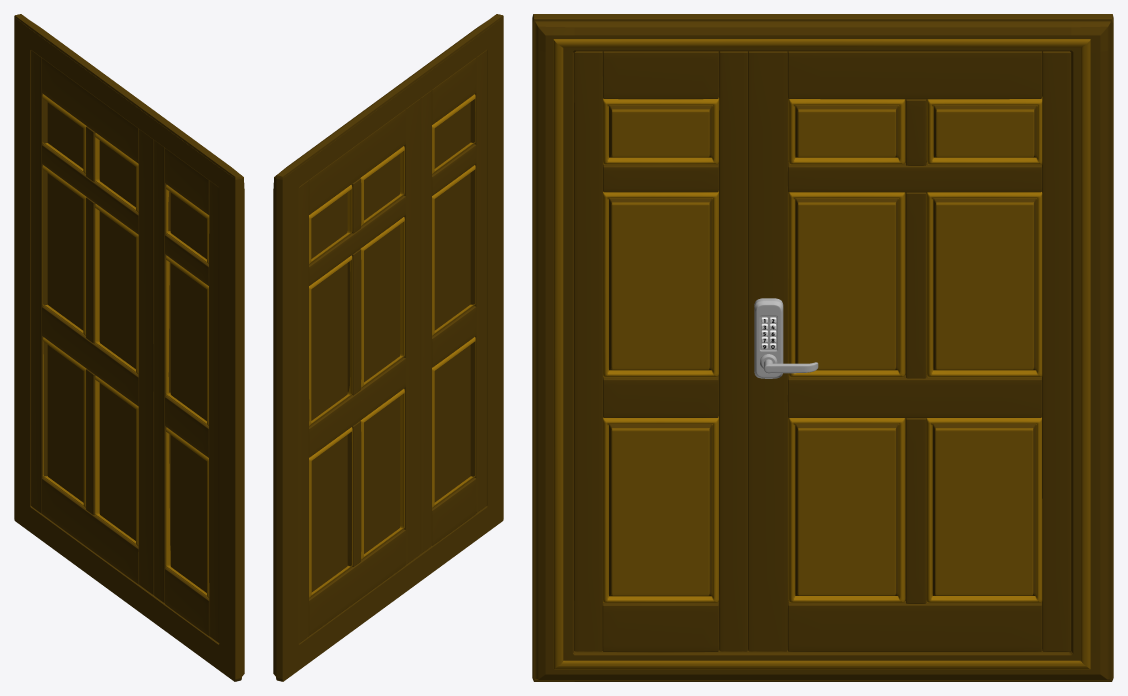
File: door.fbx
3 views of the same model, side by side, from view 1: azimuth 30°, elevation 25°; view 2: azimuth 150°, elevation 25°; view 3: azimuth 270°, elevation 25° (orthographic). The views are drawn at different scales.
Visible parts, largest first — view 1: polySurface78, pCube28, pCube29, polySurface80, pCube15, pCube14, pCube23, pCube24, pCube5, pCube13, pCube2, pCube7 (+16 smaller); view 2: polySurface78, pCube28, pCube29, polySurface80, pCube24, pCube15, pCube14, pCube23, pCube5, pCube13, pCube2, pCube7 (+16 smaller); view 3: polySurface78, polySurface88, pCube15, pCube14, pCube24, pCube23, polySurface10, pasted__polySurface18, pasted__polySurface51, polySurface14, polySurface16, polySurface12 (+34 smaller).
Part boxes in pixels (x1,y1,x2,y2): polySurface78: [15, 17, 244, 678]; pCube28: [47, 102, 135, 540]; pCube29: [170, 192, 206, 592]; polySurface80: [14, 14, 241, 681]; pCube15: [138, 129, 153, 594]; pCube14: [31, 50, 47, 513]; pCube23: [153, 140, 170, 602]; pCube24: [209, 180, 219, 642]; pCube5: [42, 478, 138, 584]; pCube13: [42, 58, 138, 163]; pCube2: [42, 306, 138, 406]; pCube7: [42, 144, 138, 234]; polySurface78: [273, 17, 502, 678]; pCube28: [311, 154, 400, 592]; pCube29: [434, 102, 470, 502]; polySurface80: [276, 14, 503, 681]; pCube24: [470, 50, 487, 512]; pCube15: [404, 98, 420, 564]; pCube14: [298, 180, 309, 643]; pCube23: [421, 90, 431, 553]; pCube5: [309, 529, 405, 635]; pCube13: [309, 109, 405, 214]; pCube2: [309, 357, 405, 457]; pCube7: [309, 195, 405, 285]; polySurface78: [535, 21, 1110, 679]; polySurface88: [553, 39, 1090, 669]; pCube15: [748, 51, 788, 651]; pCube14: [1042, 51, 1071, 651]; pCube24: [574, 51, 603, 651]; pCube23: [719, 51, 747, 651]; polySurface10: [935, 202, 1033, 369]; pasted__polySurface18: [611, 428, 709, 595]; pasted__polySurface51: [611, 202, 709, 369]; polySurface14: [935, 428, 1033, 595]; polySurface16: [797, 428, 895, 595]; polySurface12: [797, 202, 895, 369].
Size of the model in its own units: 2.35 by 35.03 by 27.79.
